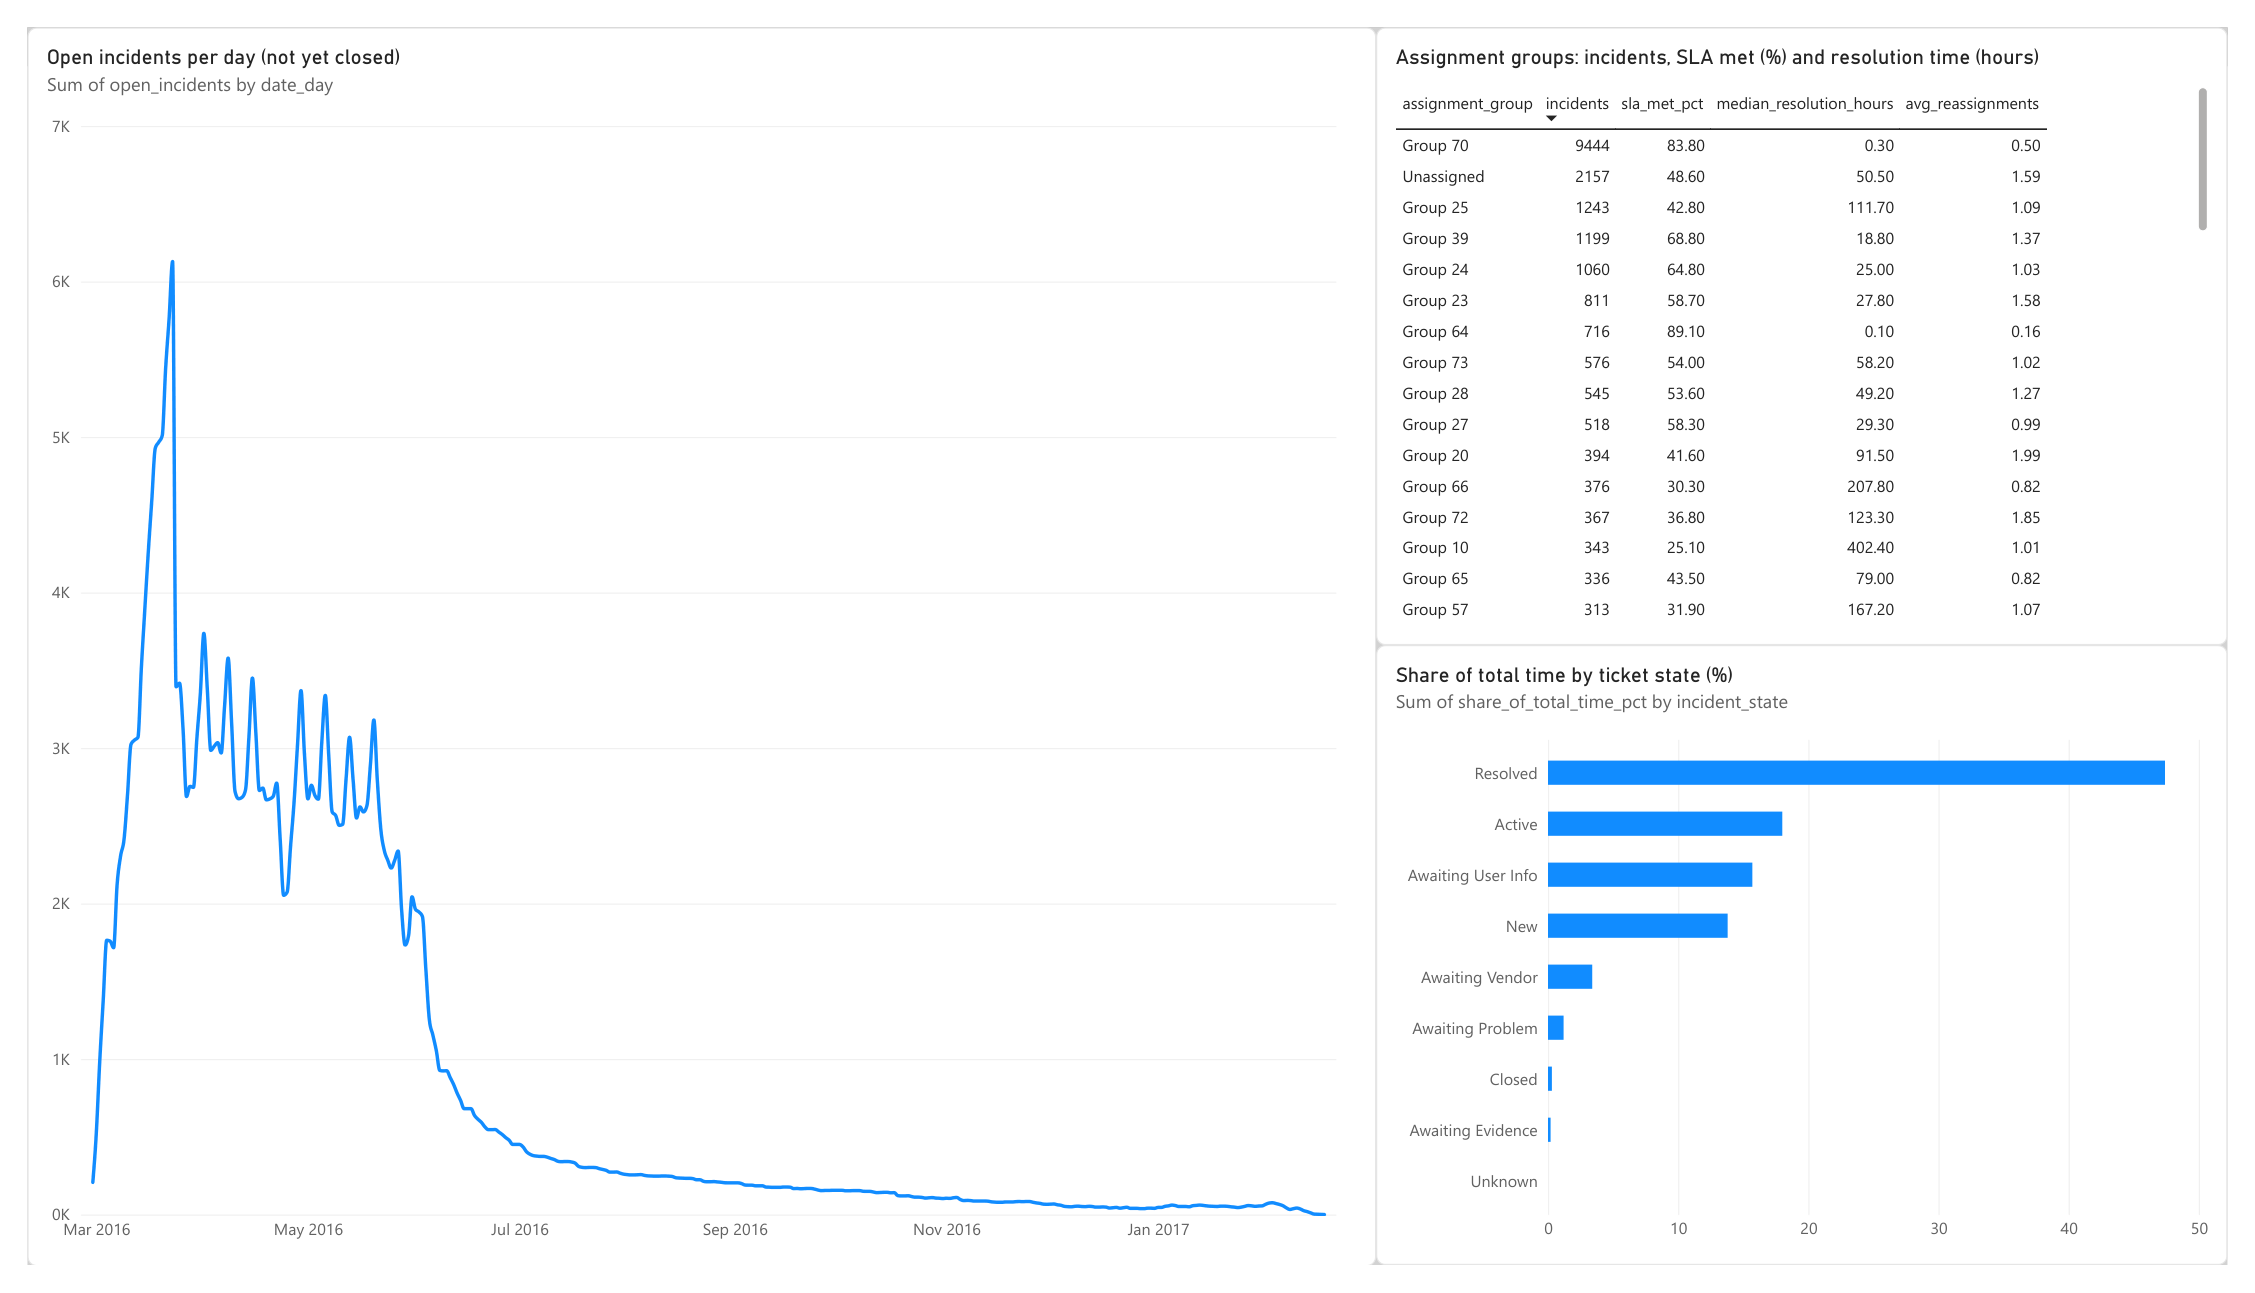

Layout of this report page (visuals, bound fields, positions):
{"tool":"powerbi","page":{"name":"Backlog and time","canvas":[1920,1080],"ordinal":1},"visuals":[{"type":"lineChart","title":"Open incidents per day (not yet closed)","fields":{"Category":["mart_backlog_daily.date_day"],"Y":["Sum(mart_backlog_daily.open_incidents)"]},"box":[0,0,1176.7,1080.9],"z":0},{"type":"clusteredBarChart","title":"Share of total time by ticket state (%)","fields":{"Category":["mart_state_time.incident_state"],"Y":["Sum(mart_state_time.share_of_total_time_pct)"]},"box":[1177.1,538.6,742.9,541.4],"z":1},{"type":"tableEx","title":"Assignment groups: incidents, SLA met (%) and resolution time (hours)","fields":{"Values":["mart_group_performance.assignment_group","mart_group_performance.incidents","mart_group_performance.sla_met_pct","mart_group_performance.median_resolution_hours","mart_group_performance.avg_reassignments"]},"box":[1176.7,0,743.3,539.2],"z":2}]}

Visuals, with their boxes in screenshot pixels (x1, y1, x2, y2), scaled from the page's 1920x1080 canvas onto the 2255x1293 screenshot:
"Open incidents per day (not yet closed)" lineChart: locate(0, 0, 1382, 1292)
"Share of total time by ticket state (%)" clusteredBarChart: locate(1382, 645, 2254, 1292)
"Assignment groups: incidents, SLA met (%) and resolution time (hours)" tableEx: locate(1382, 0, 2254, 646)
